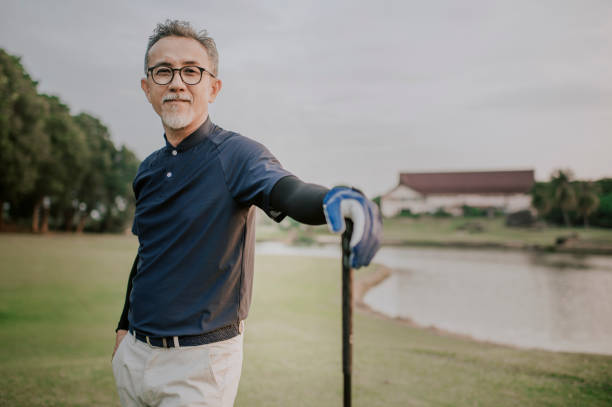face: (149, 50, 210, 122)
